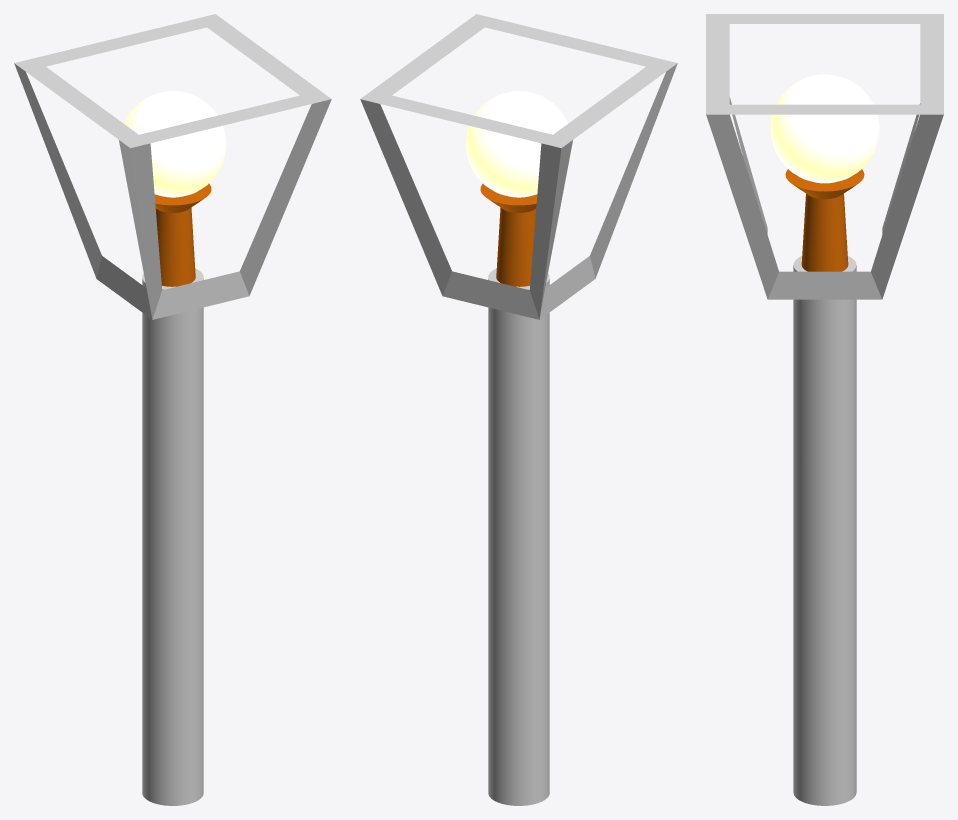
The model's file is streetlight.glb.
3 renders of one model, left to right at view 1: azimuth 30°, elevation 25°; view 2: azimuth 150°, elevation 25°; view 3: azimuth 270°, elevation 25°, orthographic. The views are drawn at different scales.
Visible parts, largest first — view 1: Cylinder, Cube, Sphere; view 2: Cylinder, Cube, Sphere; view 3: Cylinder, Cube, Sphere.
Part boxes in pixels (<box>): Cylinder: <box>142,183,211,805</box>; Cube: <box>14,14,331,319</box>; Sphere: <box>120,91,226,197</box>; Cylinder: <box>480,183,549,805</box>; Cube: <box>360,14,677,319</box>; Sphere: <box>465,91,571,197</box>; Cylinder: <box>785,169,864,805</box>; Cube: <box>706,14,943,299</box>; Sphere: <box>770,74,879,183</box>.
Size of the model in its own units: 0.6445 by 2.18 by 0.6445.
